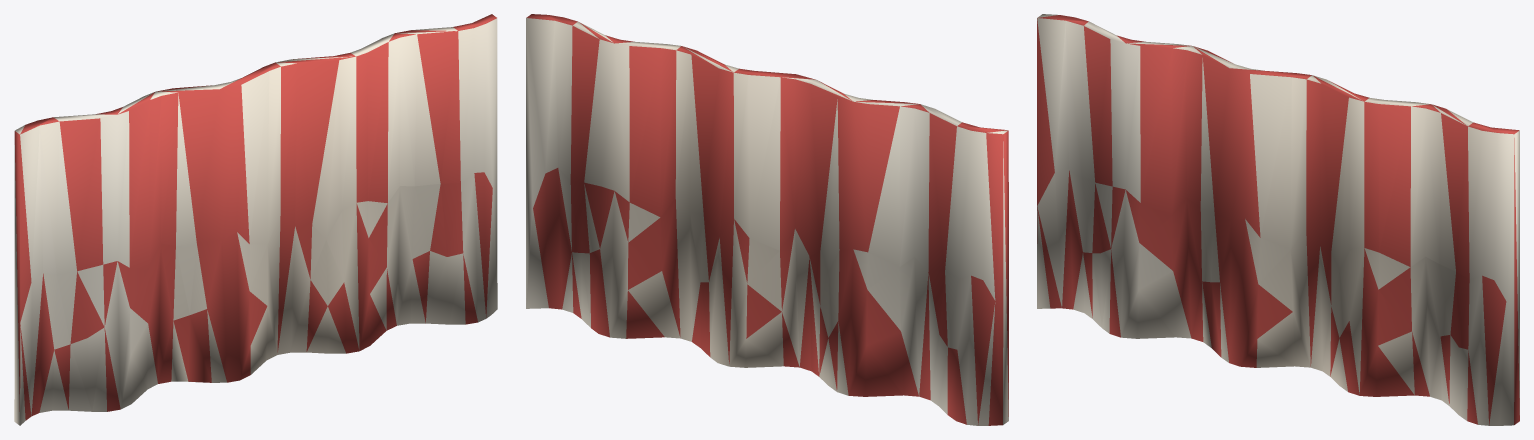
File: den_bed_valance_lod2.glb
3 renders of one model, left to right at view 1: azimuth 30°, elevation 25°; view 2: azimuth 150°, elevation 25°; view 3: azimuth 330°, elevation 25°, orthographic.
Parts seen in each view (by area): view 1: den_bed_valance.001; view 2: den_bed_valance.001; view 3: den_bed_valance.001.
Part boxes in pixels (<box>): den_bed_valance.001: <box>14,14,497,425</box>; den_bed_valance.001: <box>526,14,1008,425</box>; den_bed_valance.001: <box>1037,14,1519,425</box>.
Bounding box in the file's own units: 11.99 × 7 × 0.9767.
